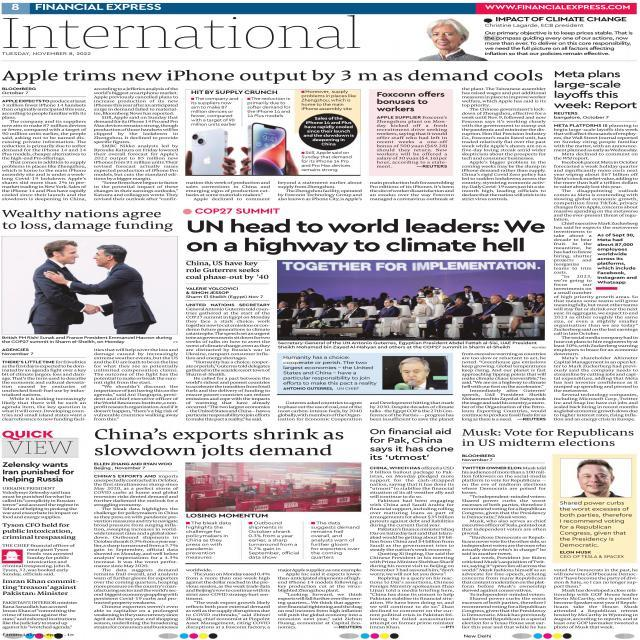Article: (183, 206, 550, 422), (0, 66, 550, 204), (88, 426, 364, 630), (1, 206, 179, 423), (457, 424, 639, 632), (551, 68, 640, 426), (370, 425, 458, 632), (1, 458, 82, 522), (0, 522, 78, 578), (0, 576, 77, 630)
Body: (460, 465, 548, 630), (369, 465, 456, 629), (92, 474, 180, 630), (552, 294, 640, 421), (185, 303, 272, 422), (93, 86, 181, 200), (461, 86, 548, 200), (553, 123, 640, 233), (1, 98, 88, 202), (92, 348, 180, 422), (460, 352, 548, 422), (1, 359, 88, 422), (552, 567, 640, 629), (185, 568, 272, 630), (276, 568, 364, 629), (376, 115, 448, 169), (0, 486, 80, 520), (1, 543, 77, 577), (552, 233, 594, 294), (1, 600, 78, 630), (247, 520, 301, 560), (309, 520, 362, 560), (276, 180, 366, 202), (183, 520, 232, 560), (185, 180, 272, 202), (369, 400, 456, 422), (276, 401, 364, 422), (368, 181, 456, 201), (302, 116, 354, 147), (189, 96, 239, 126), (300, 90, 358, 112), (300, 150, 352, 173), (245, 96, 292, 119)
Date: (2, 51, 92, 56)
Heading: (186, 218, 547, 254), (0, 68, 547, 85), (91, 427, 347, 460), (2, 208, 175, 232), (552, 68, 638, 110), (460, 428, 636, 448), (368, 428, 456, 462), (0, 461, 76, 484), (1, 578, 79, 598), (374, 91, 448, 112), (0, 522, 78, 541), (185, 513, 270, 519)
Highlights: (483, 16, 635, 56), (558, 500, 634, 560), (281, 354, 379, 392), (596, 234, 638, 285), (185, 260, 270, 282)
Image: (278, 260, 546, 340), (2, 236, 178, 335), (185, 462, 361, 512), (416, 18, 482, 60), (561, 459, 631, 497), (244, 122, 292, 174), (189, 128, 236, 176), (383, 356, 448, 389)
Name: (1, 14, 357, 50), (34, 2, 163, 10)
